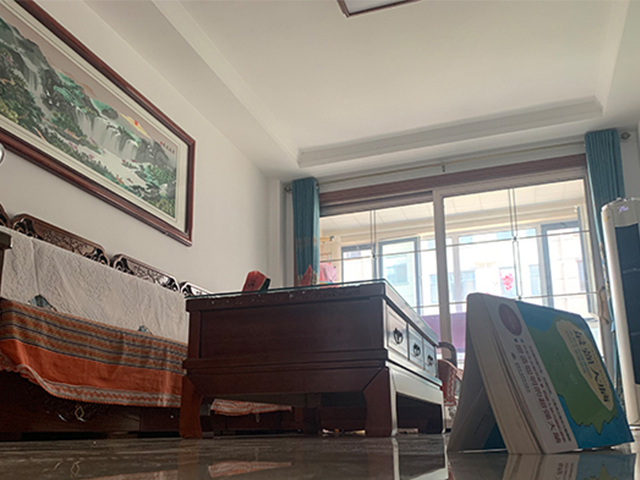book: (445, 292, 635, 457)
sofa: (1, 206, 188, 436)
table: (179, 277, 446, 438)
